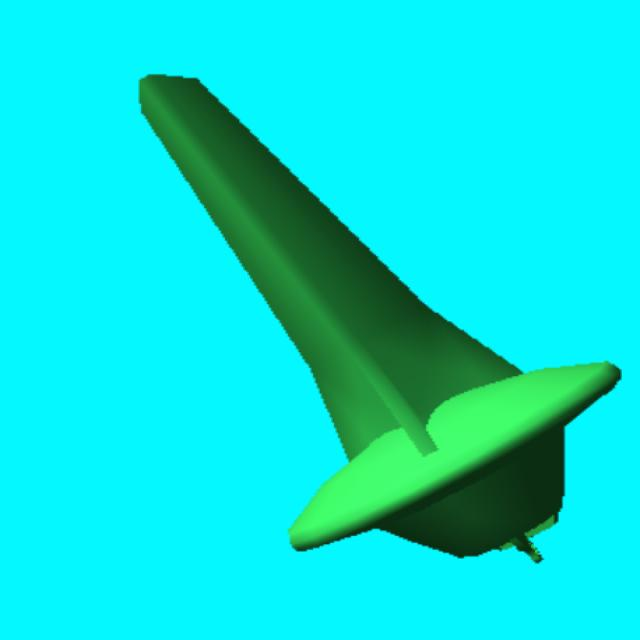GreenBuoy: (139, 75, 621, 561)
